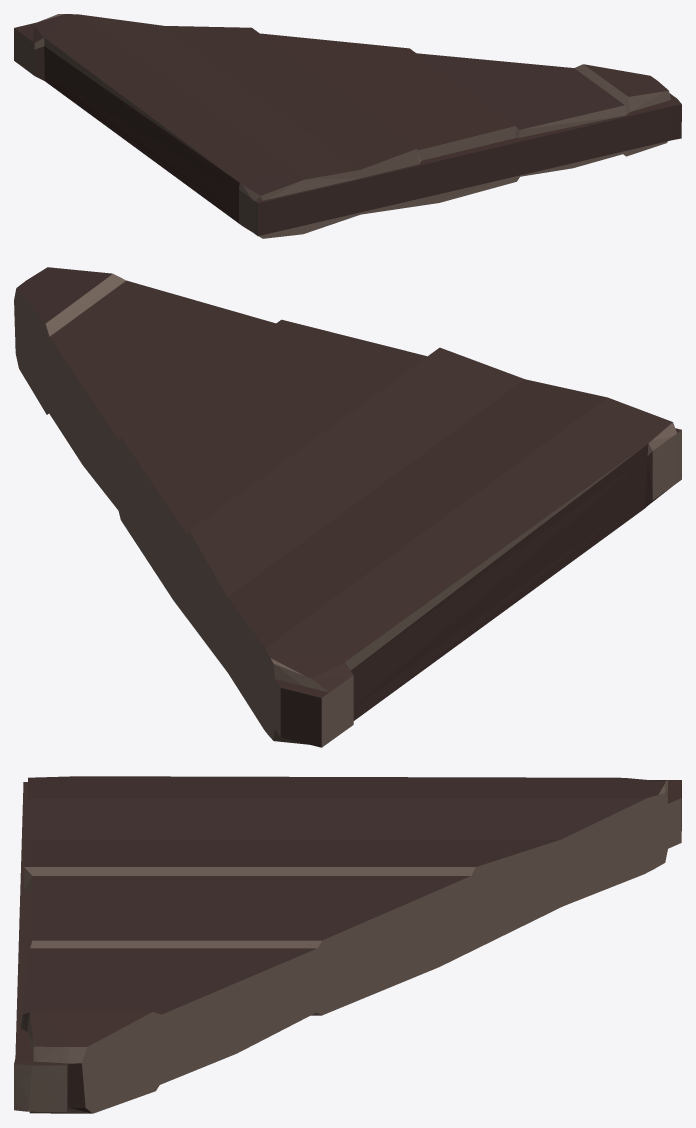
File: MCastle_Floorboards_04.FBX
3 views of the same model, one above another, from view 1: azimuth 30°, elevation 25°; view 2: azimuth 150°, elevation 25°; view 3: azimuth 270°, elevation 25° (orthographic). The views are drawn at different scales.
Visible parts, largest first — view 1: MCastle_Floorboards_04_LOD0; view 2: MCastle_Floorboards_04_LOD0; view 3: MCastle_Floorboards_04_LOD0.
Part boxes in pixels (<box>): MCastle_Floorboards_04_LOD0: <box>14,14,681,238</box>; MCastle_Floorboards_04_LOD0: <box>14,267,681,747</box>; MCastle_Floorboards_04_LOD0: <box>14,776,681,1113</box>.
Size of what is drawn, in the model's own units: 4.11 by 0.5649 by 4.08.
